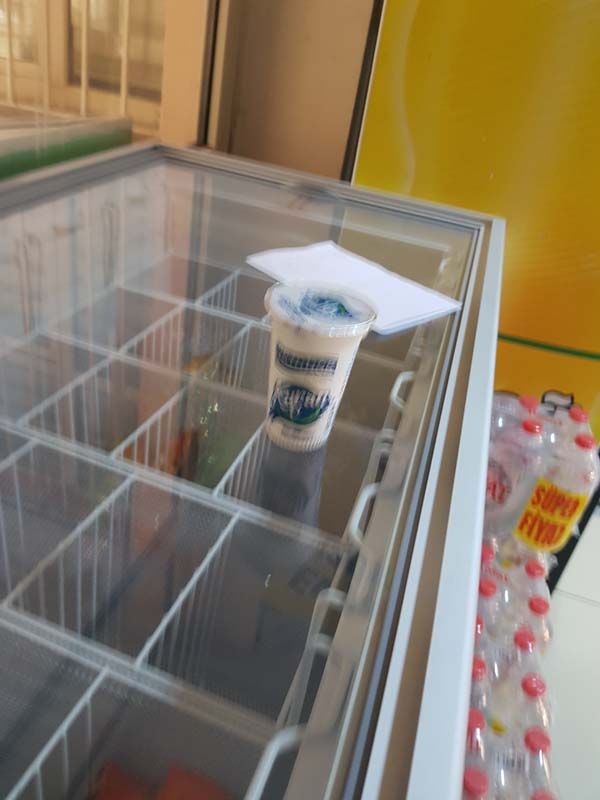camlicaayran: (261, 271, 378, 461)
